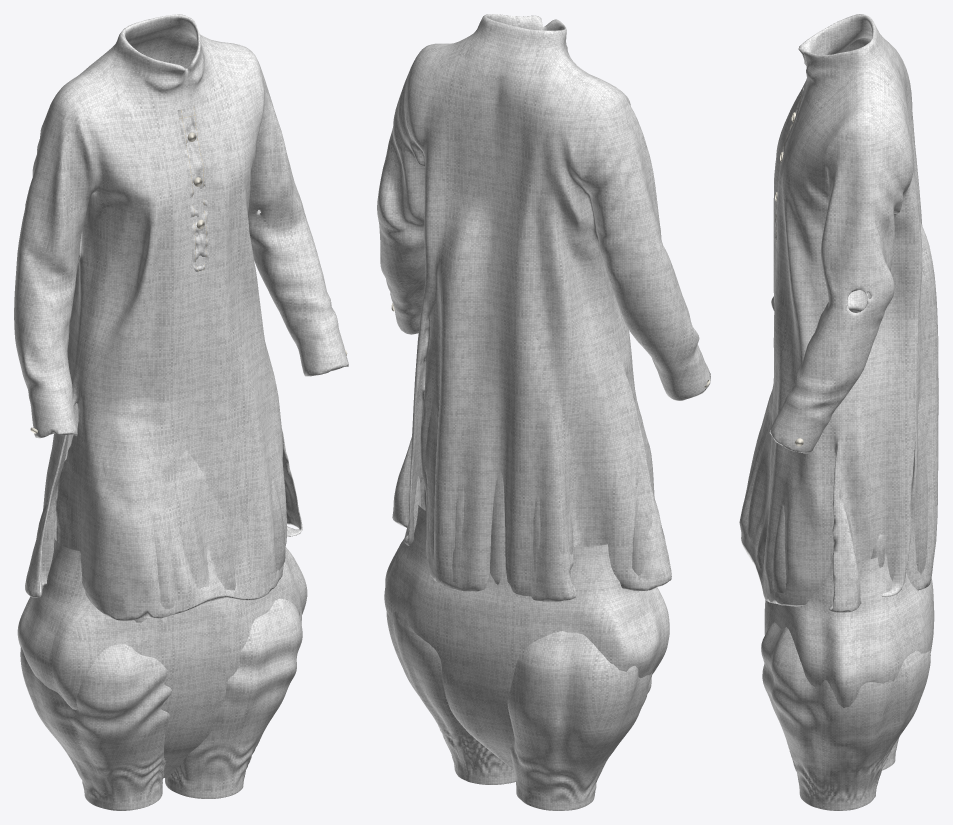
File: fabric-garment.glb
The picture shows the model from 3 angles, left to right: view 1: azimuth 30°, elevation 25°; view 2: azimuth 150°, elevation 25°; view 3: azimuth 270°, elevation 25°; orthographic projection. The views are drawn at different scales.
Parts seen in each view (by area): view 1: shalwar_kameez_figure; view 2: shalwar_kameez_figure; view 3: shalwar_kameez_figure.
Boxes of the visible parts, box(x1,y1,x2,y2) form: shalwar_kameez_figure: box(14, 14, 348, 810); shalwar_kameez_figure: box(377, 14, 710, 810); shalwar_kameez_figure: box(739, 14, 938, 810).
Size of the model in its own units: 0.3022 by 0.6988 by 0.1685.
Materials: 3 (1 with a texture image).
